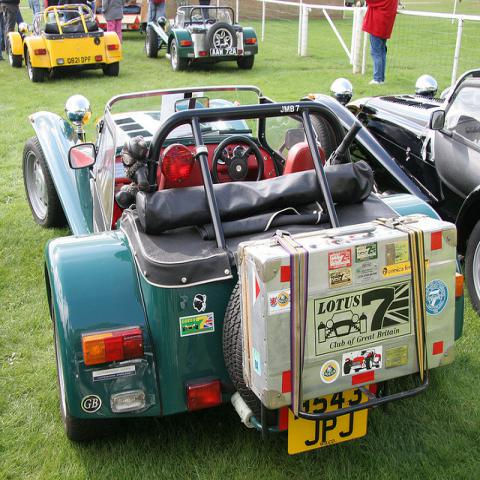car: (21, 78, 468, 457), (332, 69, 480, 320), (7, 5, 123, 82), (146, 4, 259, 74)
